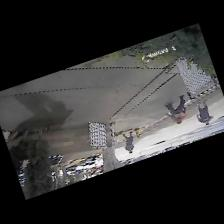person: (166, 94, 186, 117), (197, 100, 213, 124), (123, 131, 133, 152), (167, 113, 186, 123)
